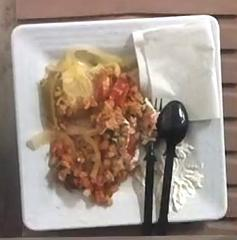taco_mix: (40, 48, 156, 204)
